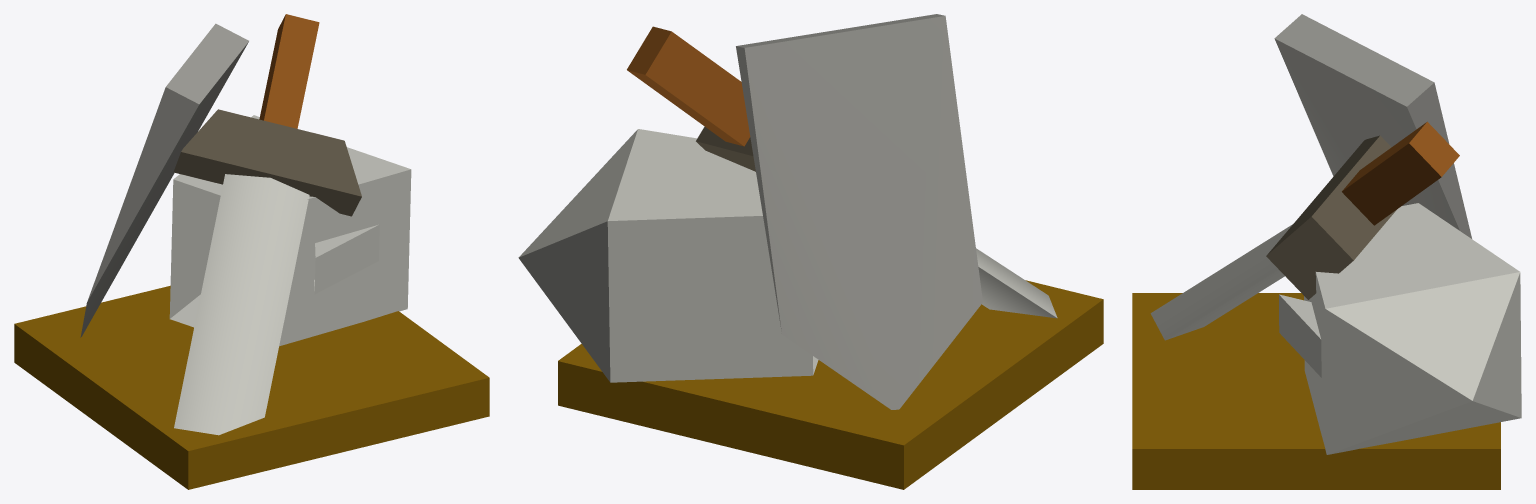
The model's file is armorweaponcrate.fbx.
The picture shows the model from 3 angles, left to right: view 1: azimuth 30°, elevation 25°; view 2: azimuth 150°, elevation 25°; view 3: azimuth 270°, elevation 25°; orthographic projection. The views are drawn at different scales.
Visible parts, largest first — view 1: polySurface180; view 2: polySurface180; view 3: polySurface180.
Boxes of the visible parts, x1,y1,x2,y2 form: polySurface180: (14, 14, 489, 489); polySurface180: (518, 14, 1103, 489); polySurface180: (1132, 14, 1521, 489).
Bounding box in the file's own units: 14.76 × 13.35 × 13.46.
1 material, 1 textured.
